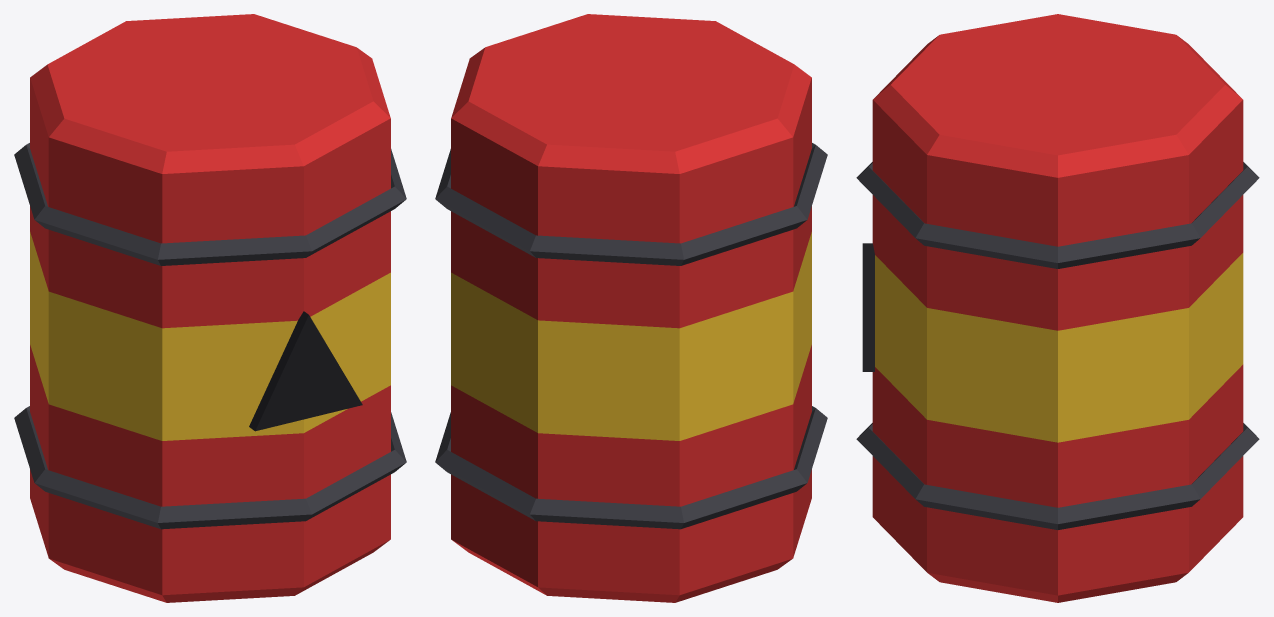
The model's file is ExplosiveBarrel.fbx.
The picture shows the model from 3 angles, left to right: view 1: azimuth 30°, elevation 25°; view 2: azimuth 150°, elevation 25°; view 3: azimuth 270°, elevation 25°; orthographic projection.
Visible parts, largest first — view 1: ExplosiveBarrel; view 2: ExplosiveBarrel; view 3: ExplosiveBarrel.
Boxes of the visible parts, box(x1,y1,x2,y2) form: ExplosiveBarrel: box(14, 14, 406, 602); ExplosiveBarrel: box(435, 14, 827, 602); ExplosiveBarrel: box(856, 14, 1259, 602).
Size of the model in its own units: 1.96 by 2.4 by 1.96.
Materials: 1 (1 with a texture image).
